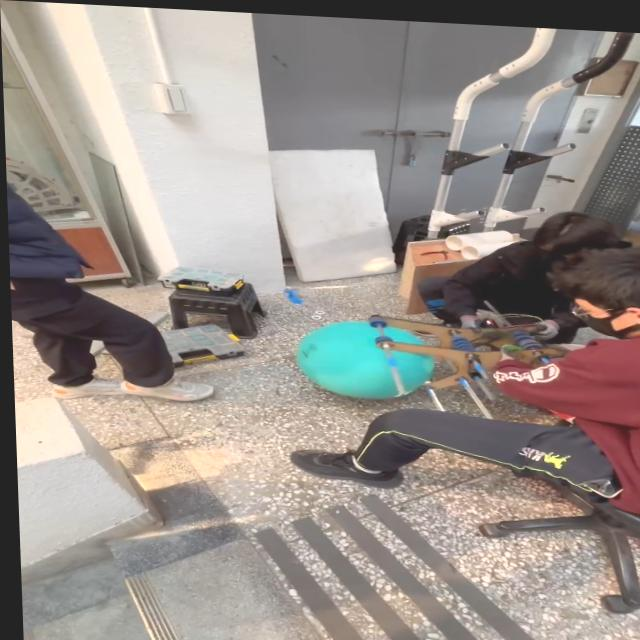ALGAE: (292, 317, 438, 404)
